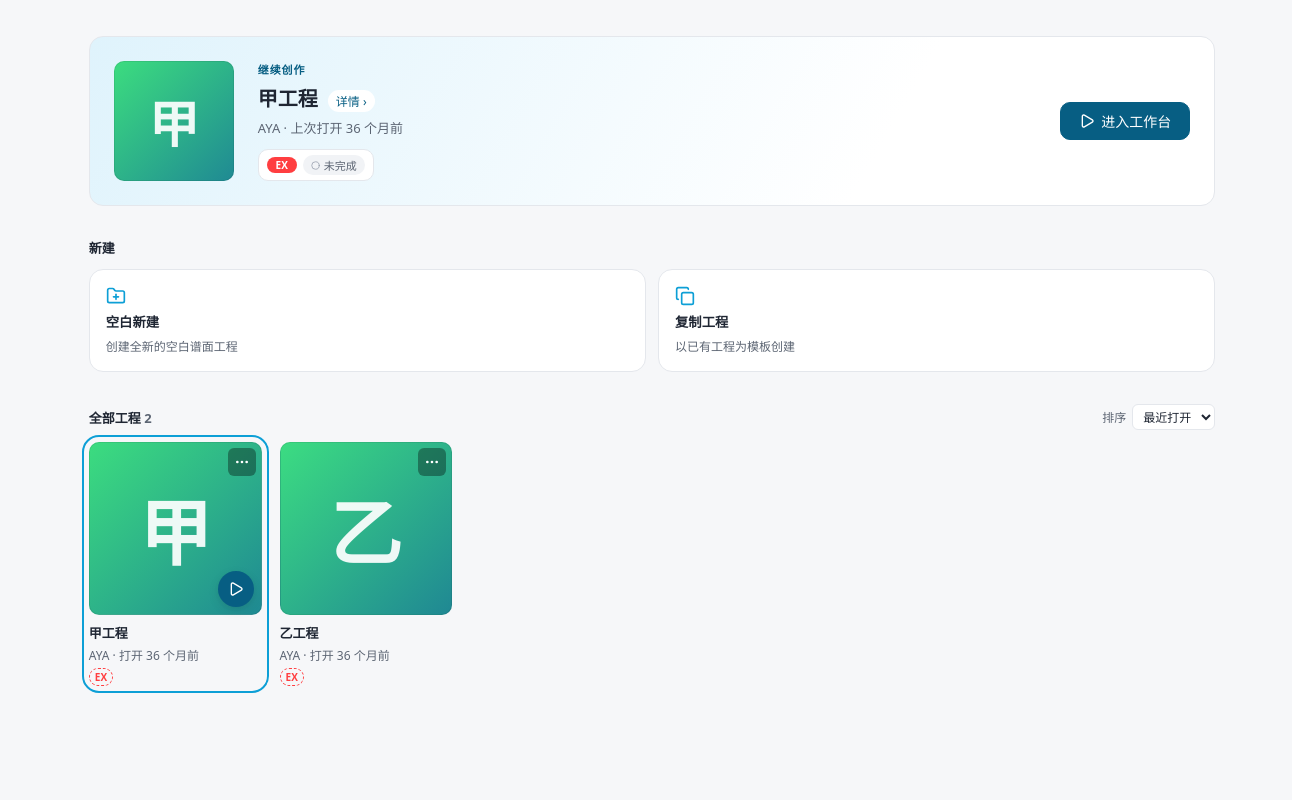
票 39 · 账号区落在哪儿（Q13 / Q24 / Q11） › 没有社区出口（静态演示版）→ 账号区整块不渲染（Q11）
Check: the element showing "甲 甲工程 AYA · 打开 36 个月前 EX" is shown, box [89, 442, 262, 686]
等目录就绪（真实卡片出现）再点——「全部工程」标题在骨架屏态也渲染，等它 ≠ 就绪（test-infra 01）
Click the text "甲工程" at {"x": 108, "y": 633}, box [89, 624, 128, 642]
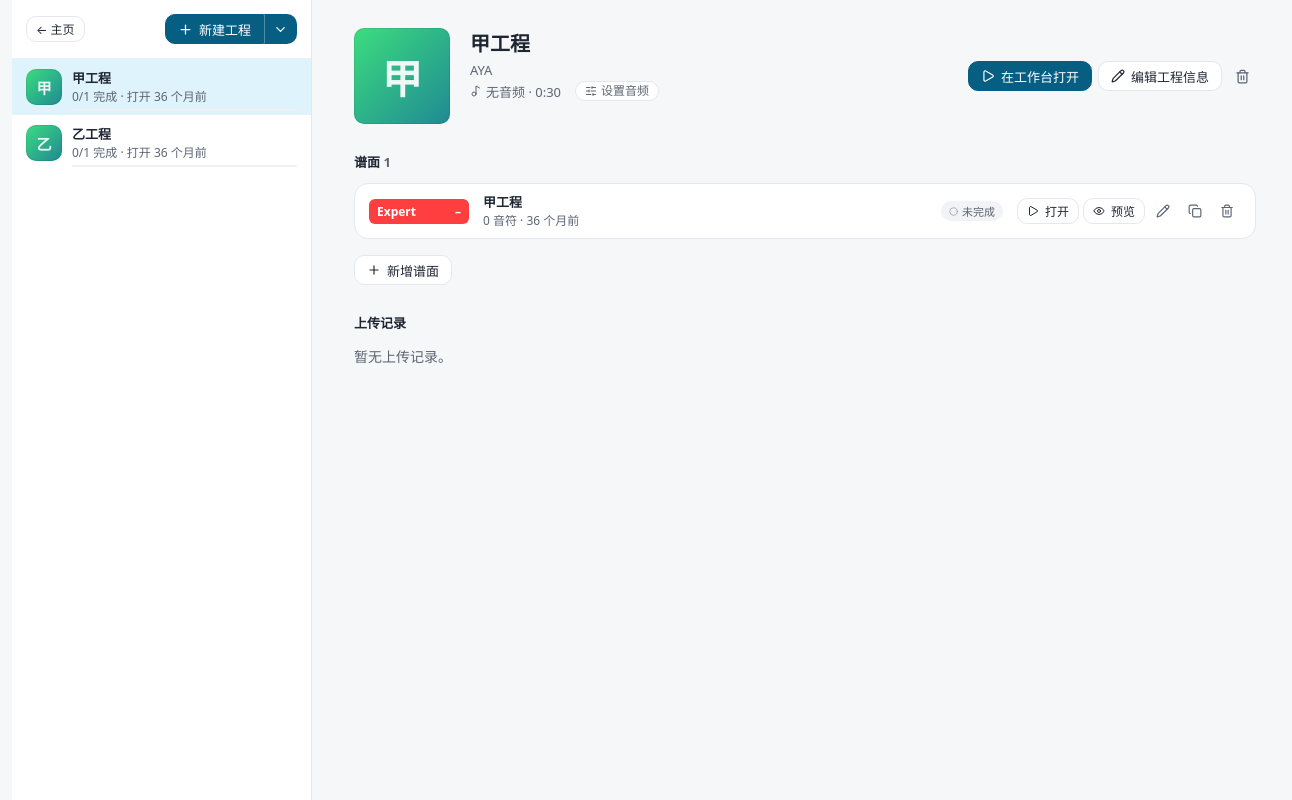
Check: the heading "上传记录" is shown, box [354, 314, 406, 332]
